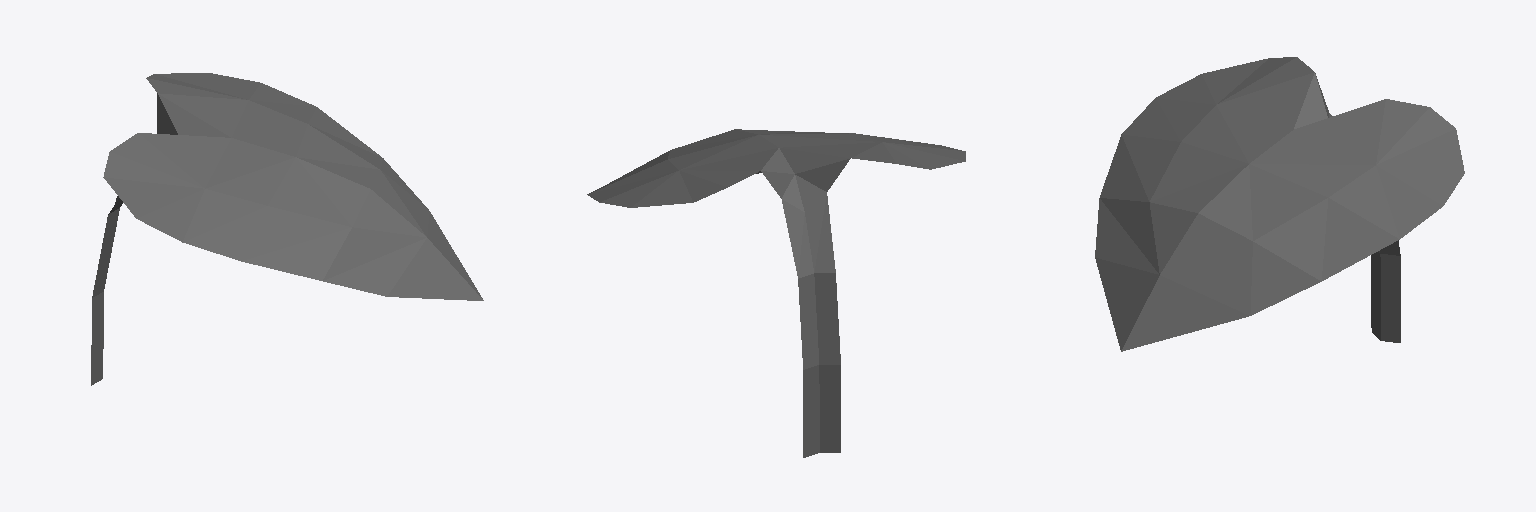
File: Leaf_2.obj
3 renders of one model, left to right at view 1: azimuth 30°, elevation 25°; view 2: azimuth 150°, elevation 25°; view 3: azimuth 270°, elevation 25°, orthographic.
Parts seen in each view (by area): view 1: Plane010; view 2: Plane010; view 3: Plane010.
Boxes of the visible parts, x1=… form: Plane010: x1=91, y1=73, x2=483, y2=385; Plane010: x1=587, y1=129, x2=965, y2=457; Plane010: x1=1095, y1=57, x2=1464, y2=351.
Size of the model in its own units: 0.5494 by 0.446 by 0.5541.